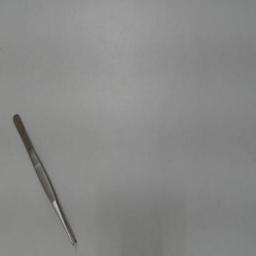Gillies Toothed Dissector: (7, 105, 83, 253)
